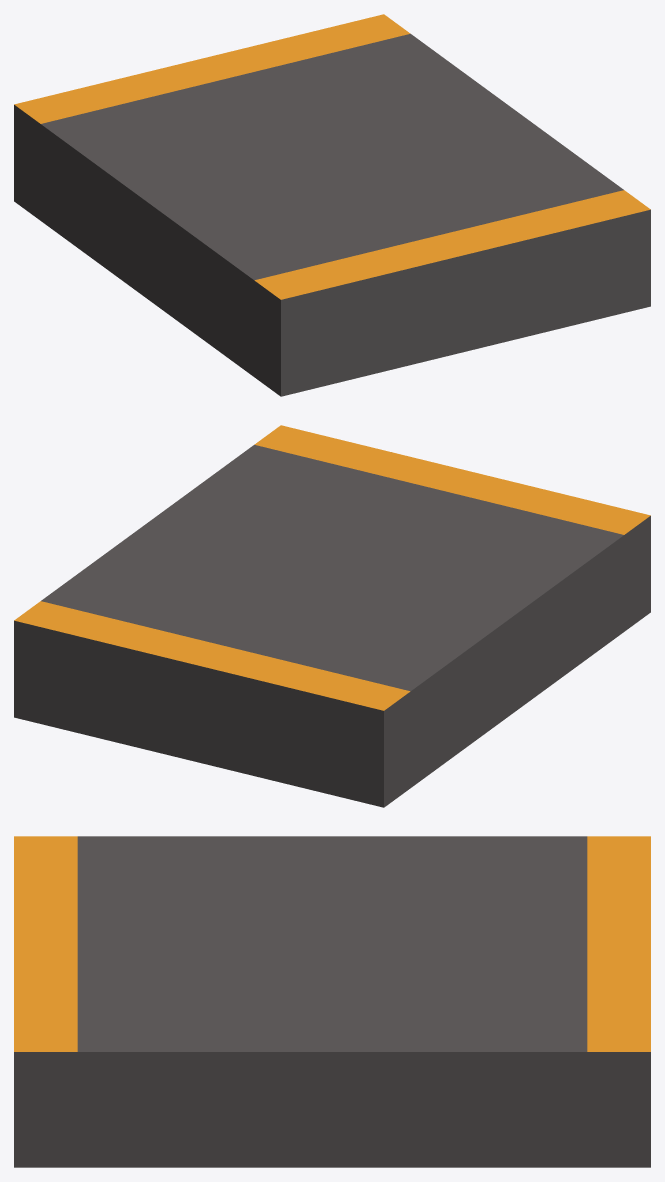
Rendered from train-station-platform-empty-small.glb.
The picture shows the model from 3 angles, top to bottom: view 1: azimuth 30°, elevation 25°; view 2: azimuth 150°, elevation 25°; view 3: azimuth 270°, elevation 25°; orthographic projection. The views are drawn at different scales.
Parts seen in each view (by area): view 1: train-station-platform-empty-small; view 2: train-station-platform-empty-small; view 3: train-station-platform-empty-small.
Boxes of the visible parts, left/top/right/bottom form: train-station-platform-empty-small: left=14, top=14, right=650, bottom=396; train-station-platform-empty-small: left=14, top=425, right=650, bottom=807; train-station-platform-empty-small: left=14, top=836, right=650, bottom=1167.
Size of the model in its own units: 4 by 1 by 5.
1 material, 1 textured.
